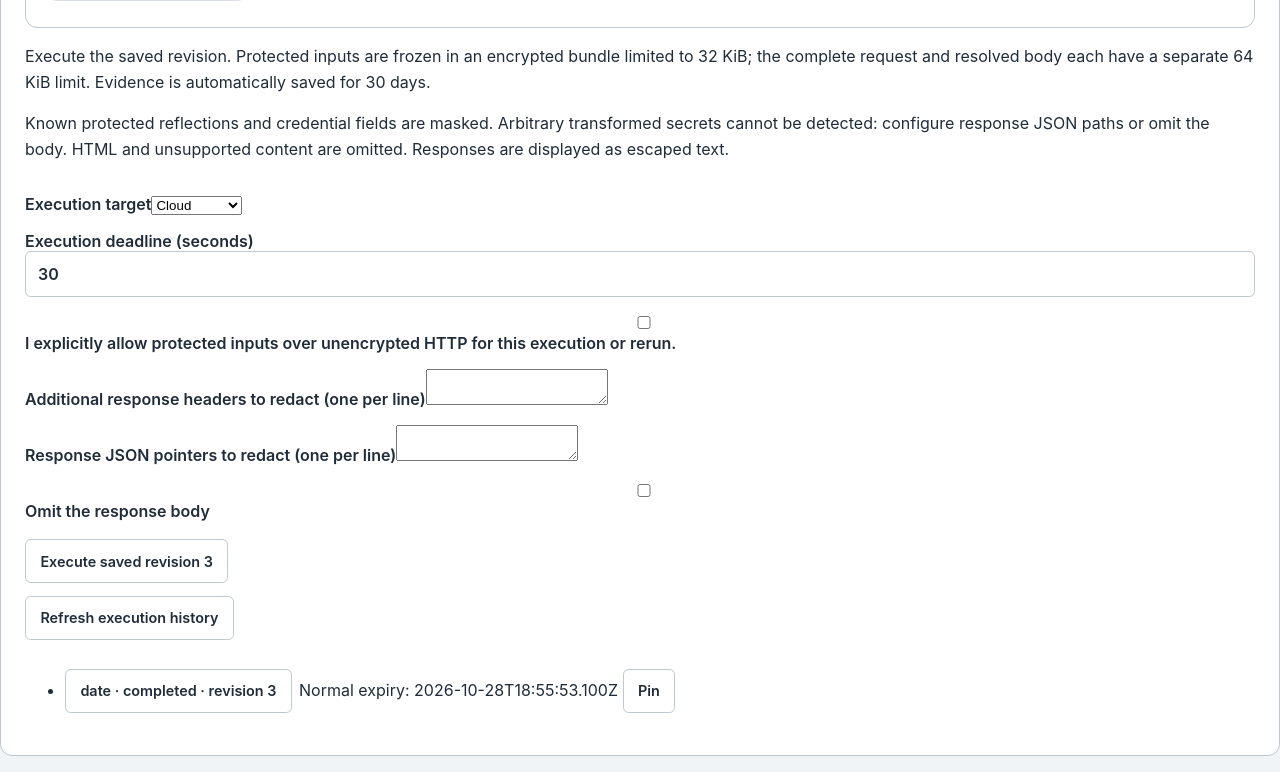
Test: ignores a delayed pin response after switching project
(page scrolled)
Click the button with aria-label "Pin evidence execution-a".
click(649, 691)  # box [622,669,675,713]
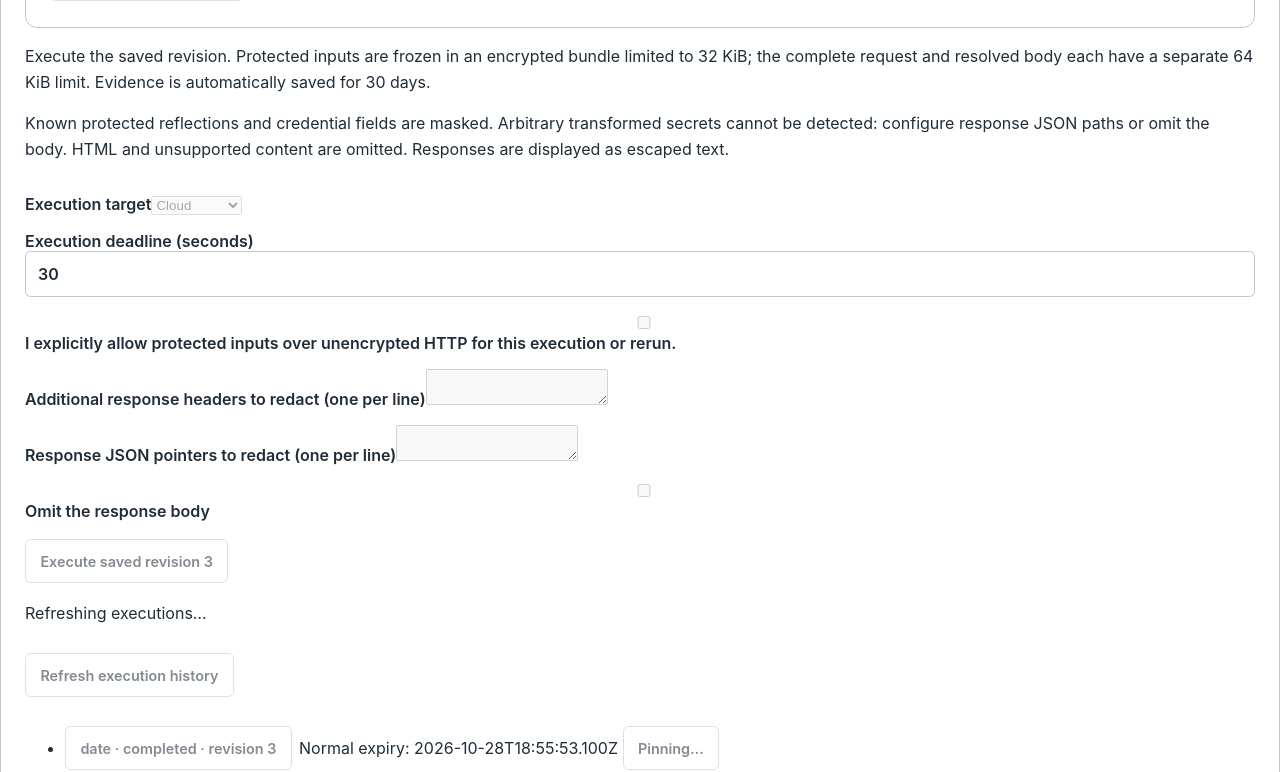
Expected: the button "Pinning…" is shown, [622,726,719,770]
